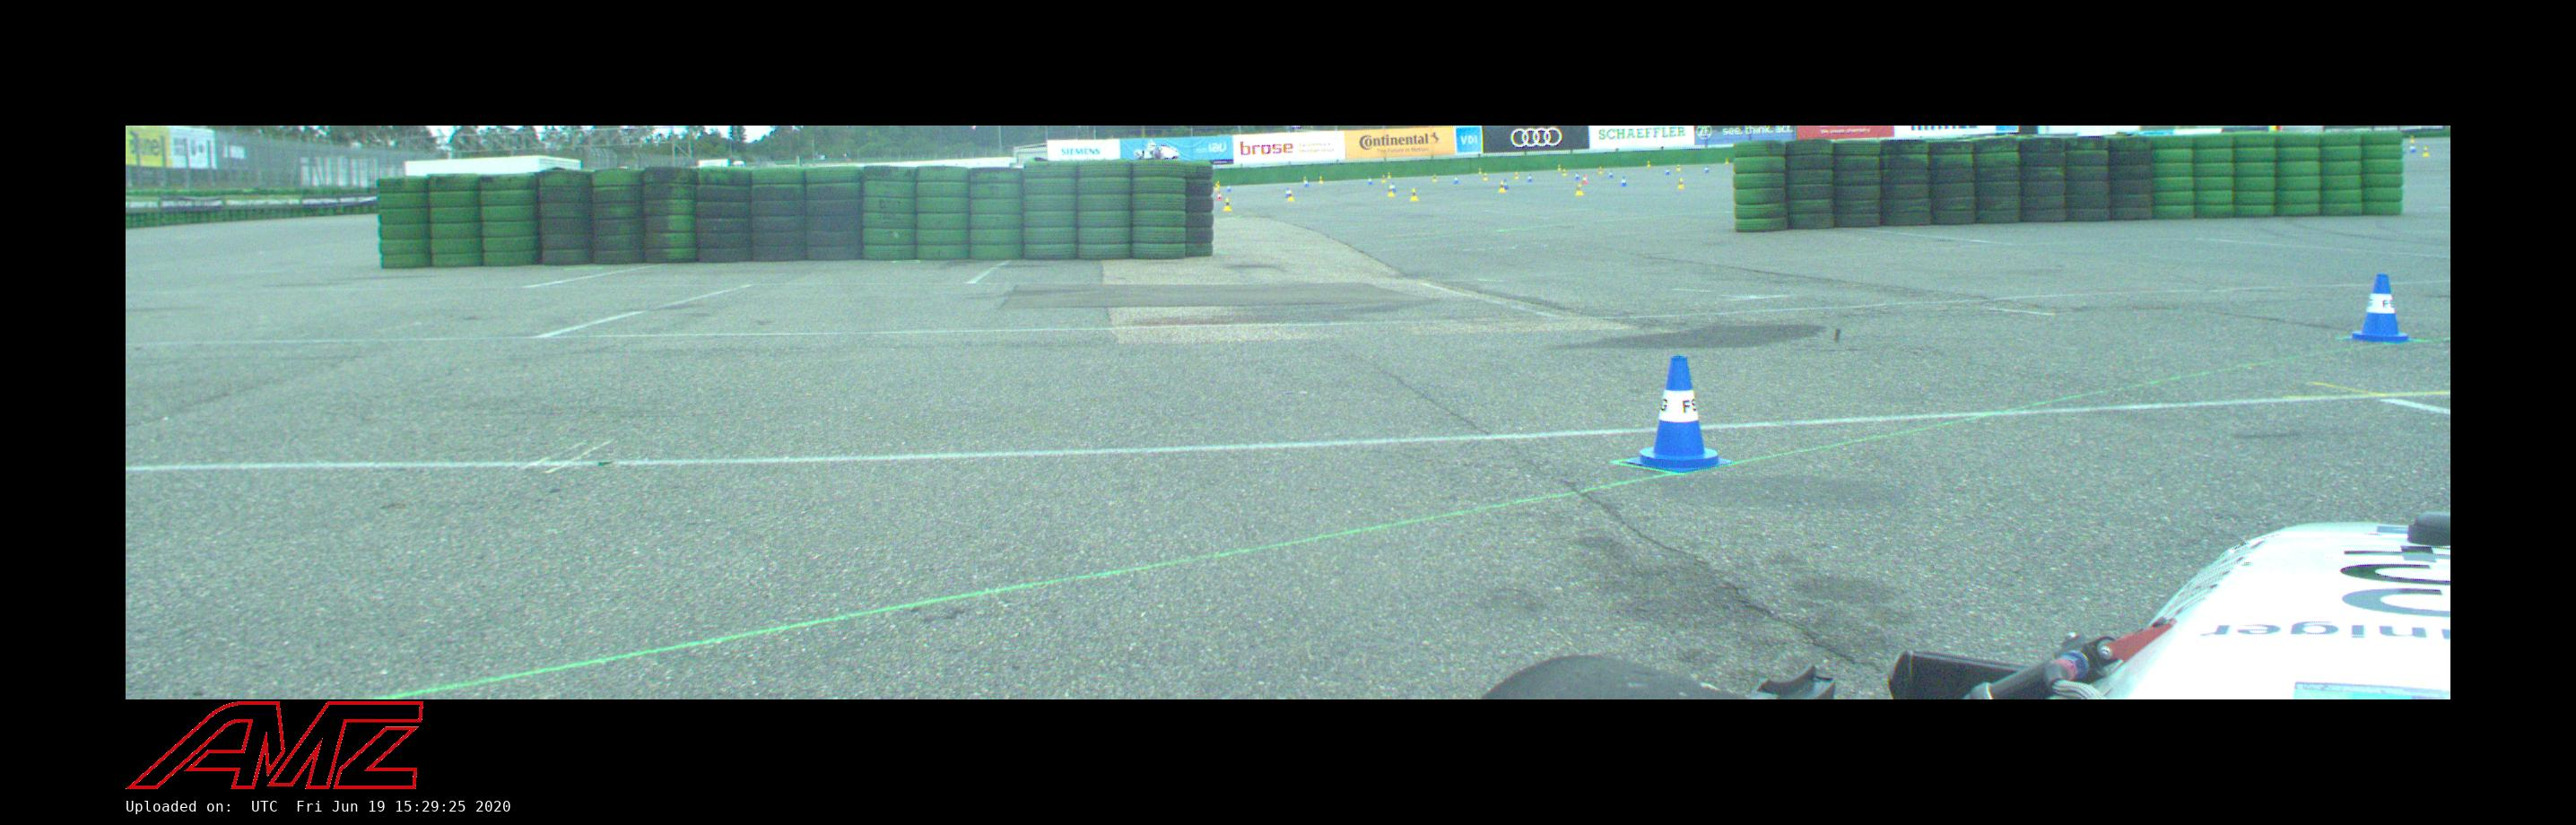blue_cone: (1626, 355, 1733, 475), (2344, 273, 2417, 343), (1620, 176, 1626, 187), (1503, 179, 1510, 191), (1391, 182, 1398, 194), (2408, 145, 2417, 153), (1608, 169, 1615, 179), (1285, 187, 1290, 199), (1452, 176, 1459, 184), (1704, 166, 1710, 174), (1574, 173, 1580, 181), (1526, 174, 1533, 182), (1664, 168, 1671, 176), (1304, 181, 1311, 187), (1368, 176, 1373, 184), (1227, 184, 1232, 192)
orange_cone: (1216, 192, 1224, 200), (1582, 174, 1589, 184)
yellow_cone: (1222, 197, 1232, 212), (1574, 182, 1584, 196), (1410, 189, 1419, 202), (2422, 146, 2431, 156), (1498, 181, 1506, 192), (1677, 177, 1686, 189), (1387, 186, 1393, 197), (1214, 181, 1221, 191), (1290, 191, 1295, 202), (1318, 176, 1324, 184), (1482, 173, 1488, 181), (2408, 135, 2415, 143), (1382, 174, 1387, 182), (1433, 174, 1438, 182), (1599, 166, 1603, 174), (1515, 173, 1520, 179), (1562, 169, 1567, 176), (1676, 164, 1681, 171), (1725, 158, 1730, 164), (1557, 164, 1562, 171), (1646, 161, 1651, 166), (1388, 173, 1391, 179), (1479, 169, 1482, 174)
